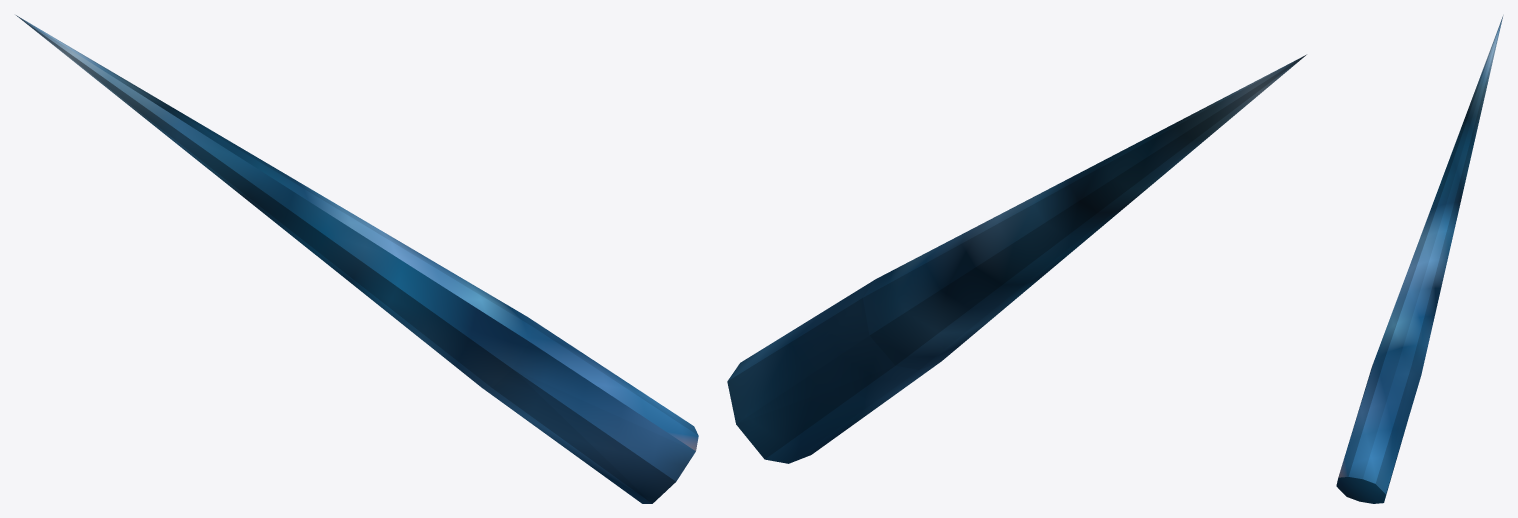
File: ICICLE.fbx
3 renders of one model, left to right at view 1: azimuth 30°, elevation 25°; view 2: azimuth 150°, elevation 25°; view 3: azimuth 270°, elevation 25°, orthographic. The views are drawn at different scales.
Parts seen in each view (by area): view 1: ICICLE; view 2: ICICLE; view 3: ICICLE.
Part boxes in pixels (box(x1,y1,x2,y2)): ICICLE: box(16, 15, 698, 503); ICICLE: box(727, 54, 1306, 463); ICICLE: box(1336, 15, 1503, 503).
Bounding box in the file's own units: 23.07 × 20.64 × 9.44.
